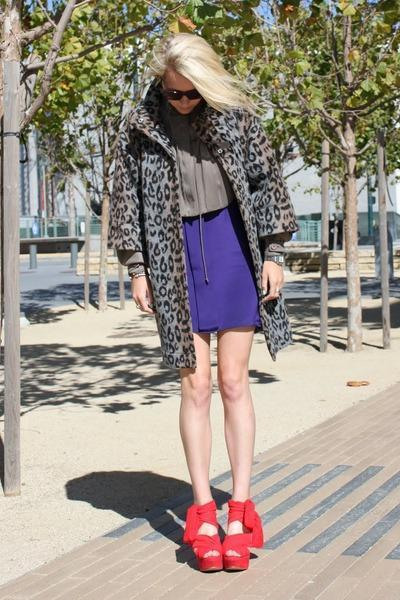jacket: (86, 84, 310, 382)
shirt: (164, 144, 227, 223)
shoe: (180, 499, 264, 573)
skirt: (180, 209, 265, 345)
